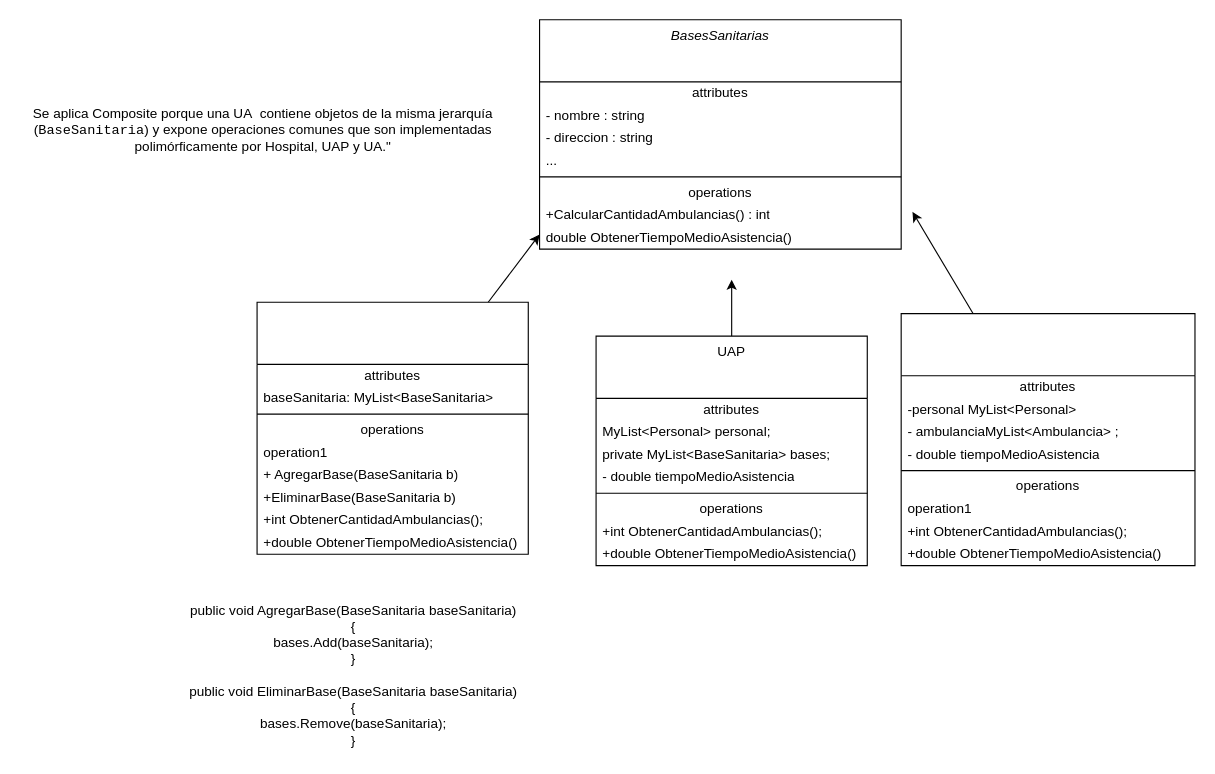
Some shapes in this 1215 by 774 pixel diagram are drawn without their labels. Each missing label, with the box of its shape:
Hospital: (900, 312, 1195, 566)
UA: (256, 301, 528, 554)
